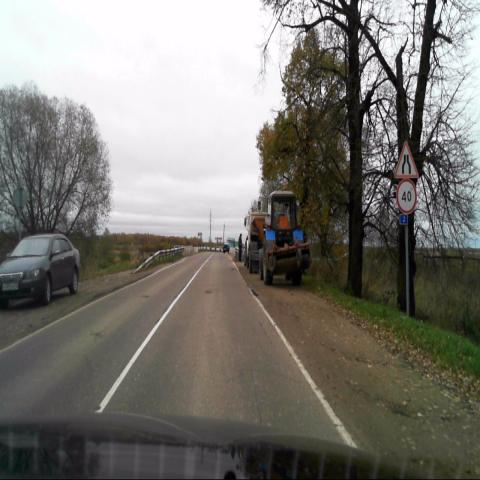1_20: (394, 140, 418, 178)
3_24: (396, 180, 416, 213)
